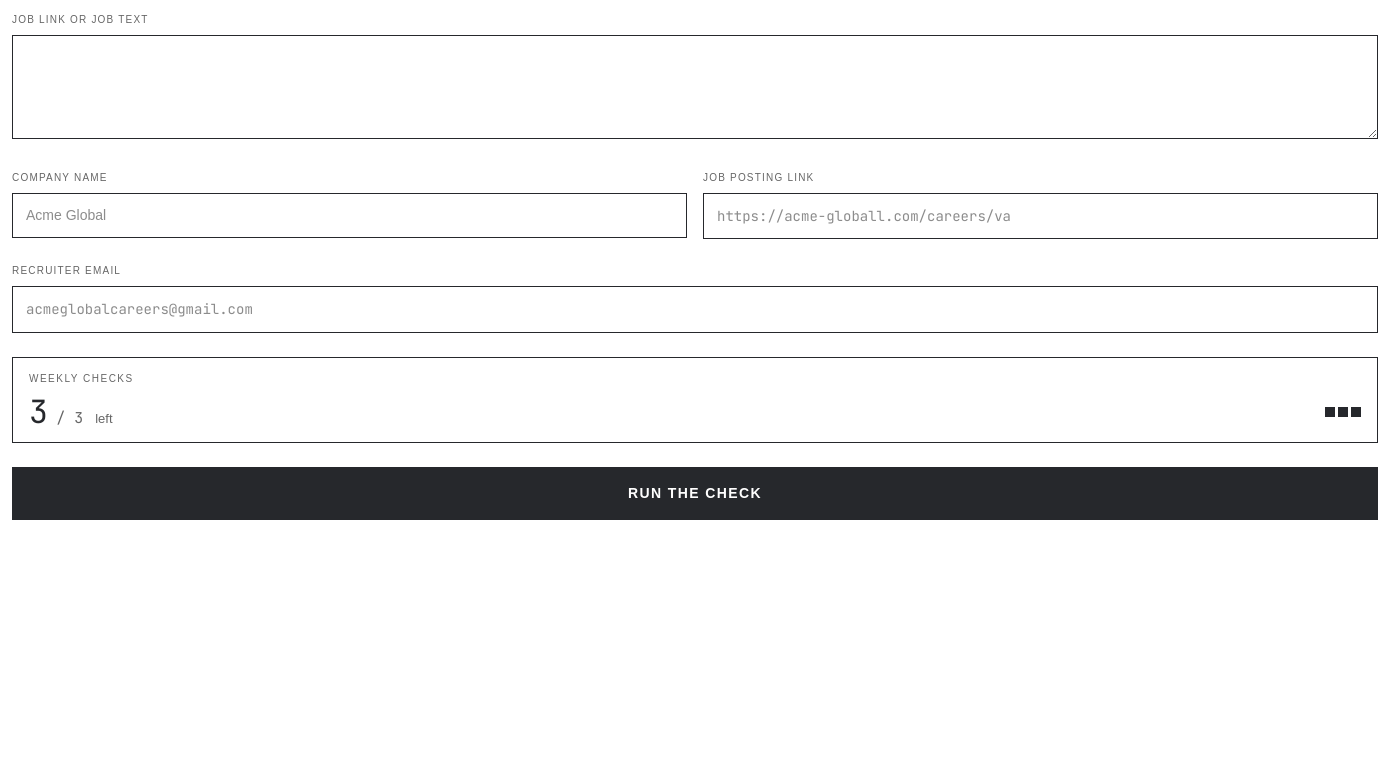
Test: NewCheckForm › blocks submit with an empty posting
This screenshot has width=1390, height=780.
What coordinates should you click on to do the following:
click the button "RUN THE CHECK"
I would click on:
 (695, 493)
Its box is [13,468,1377,519].
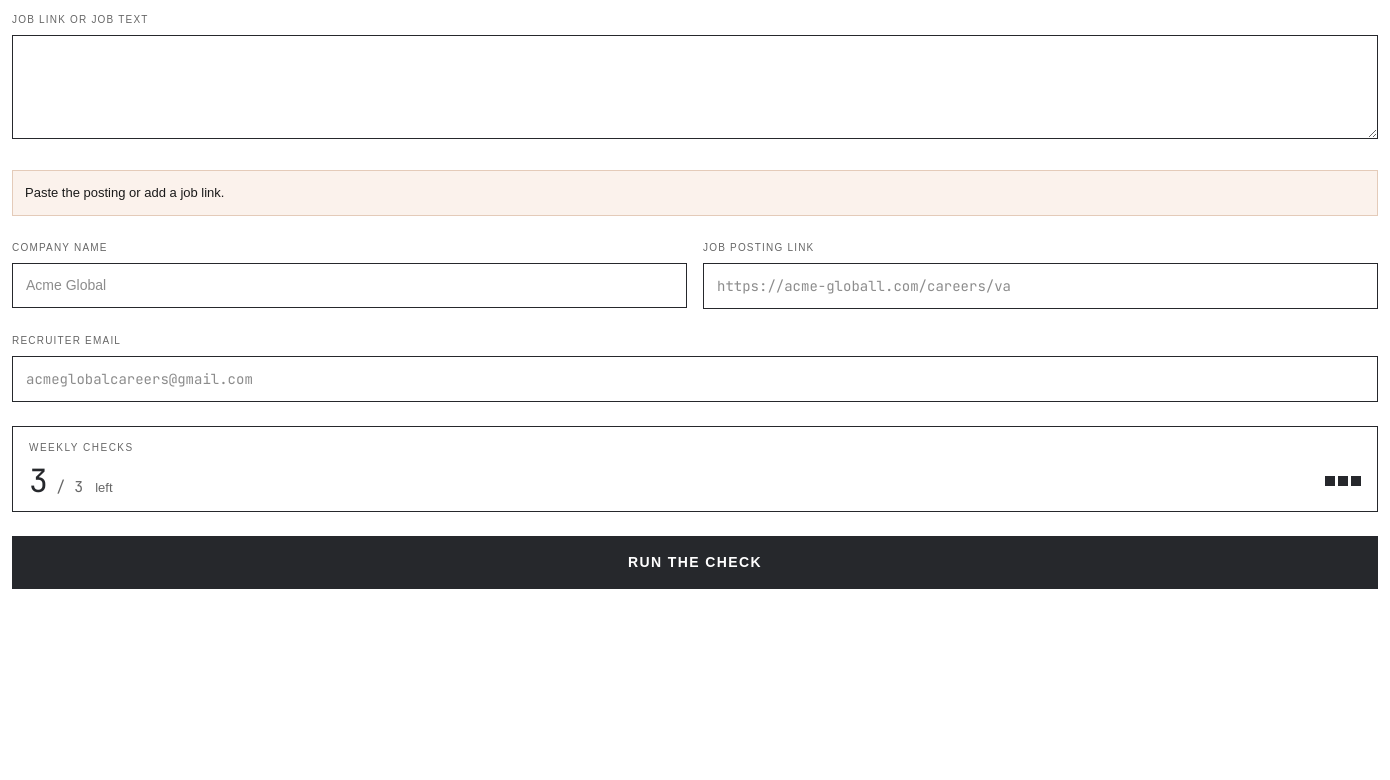
Check: the text "Paste the posting or add a job link." is shown, box [25,185,224,200]
